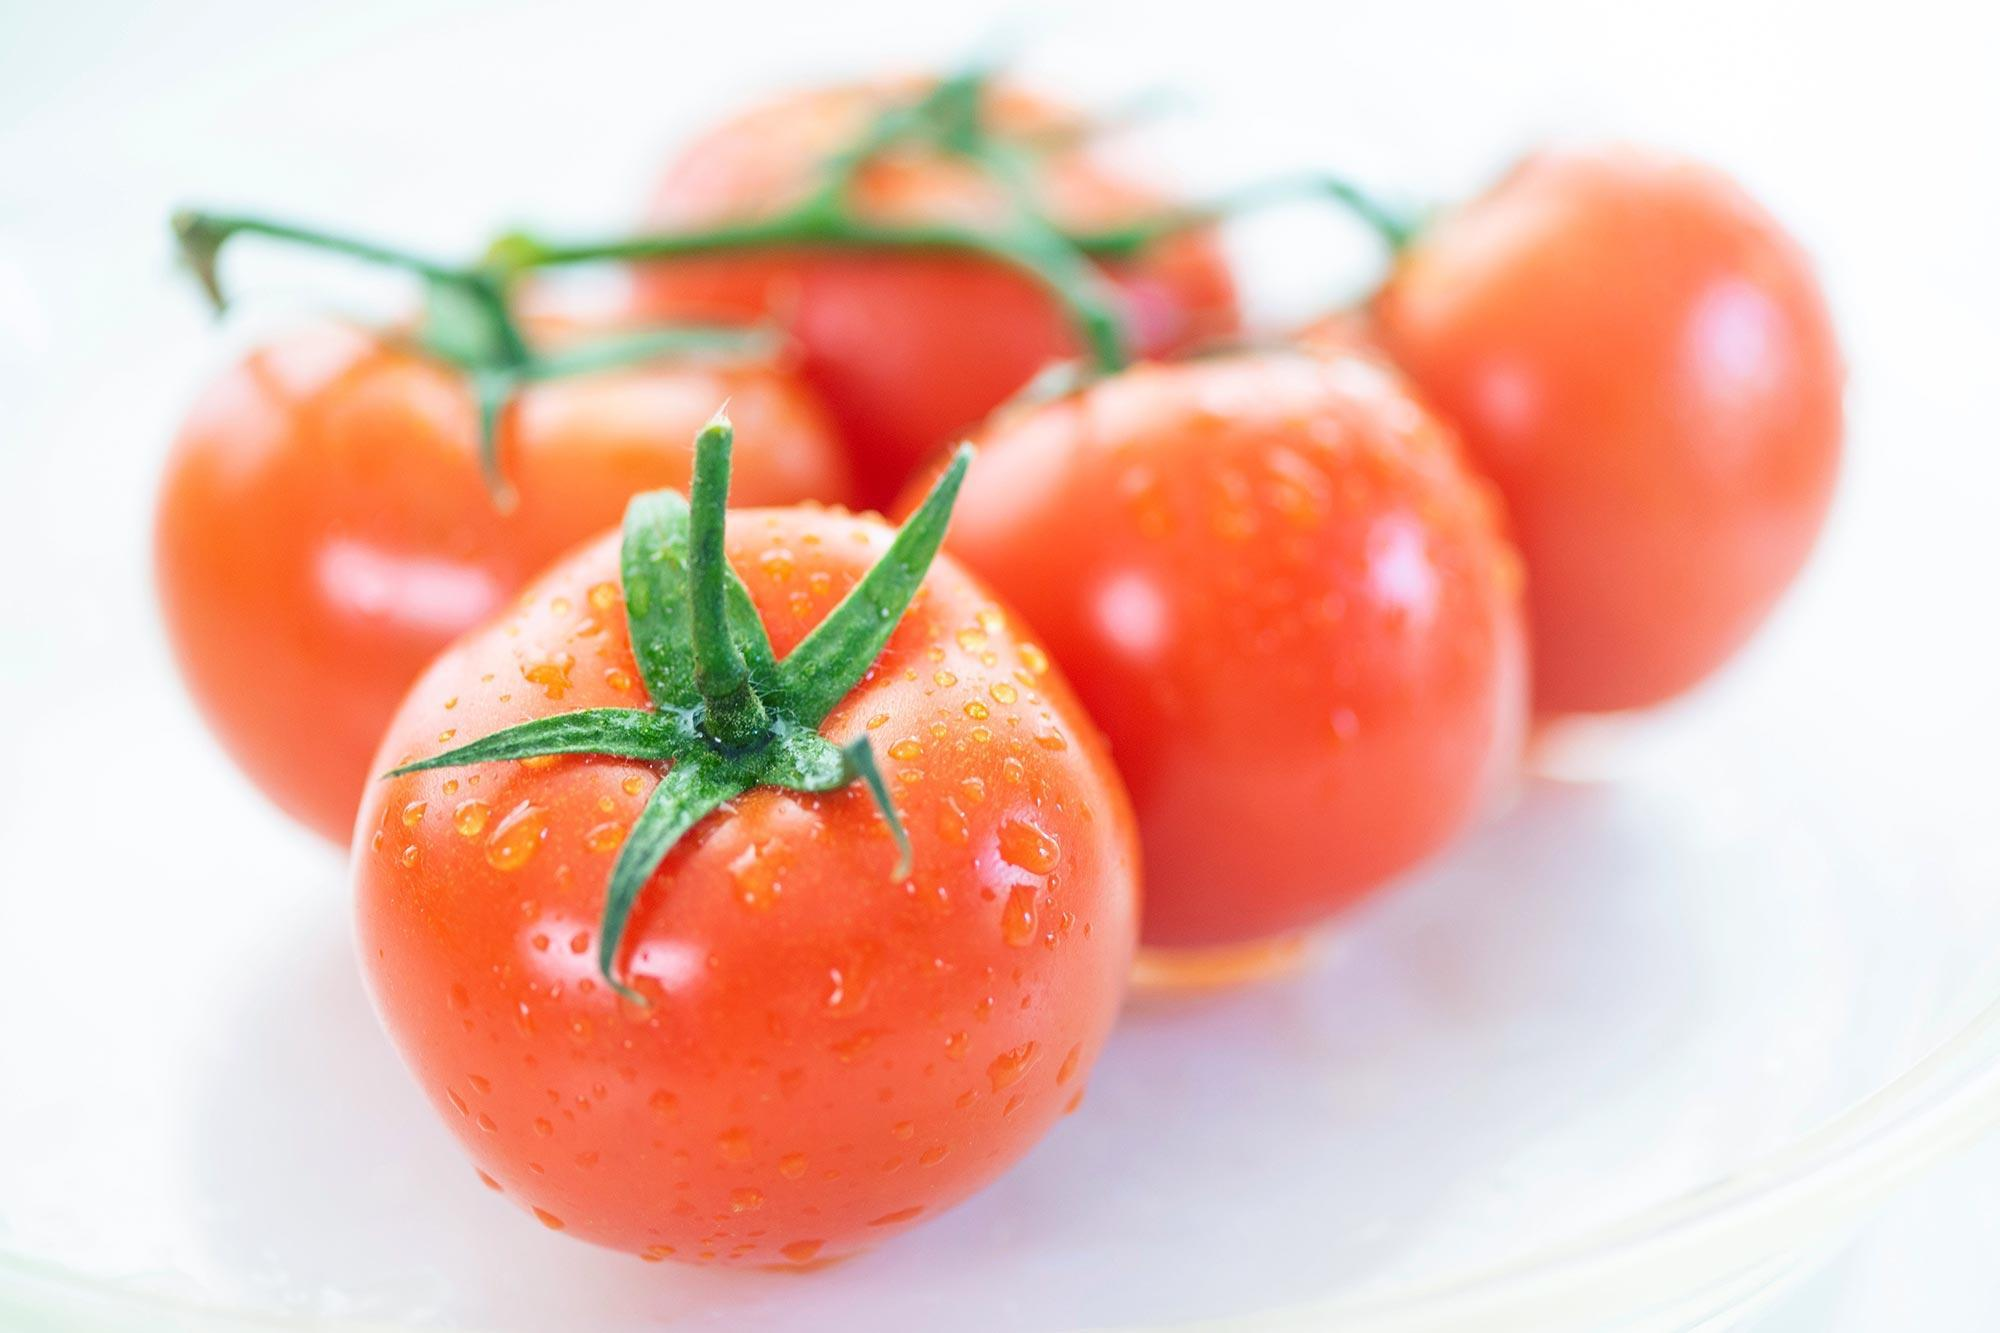healthy-tomato: (349, 439, 1143, 1253), (156, 263, 981, 844), (944, 312, 1539, 954), (1367, 131, 1865, 735), (633, 64, 1225, 522)
